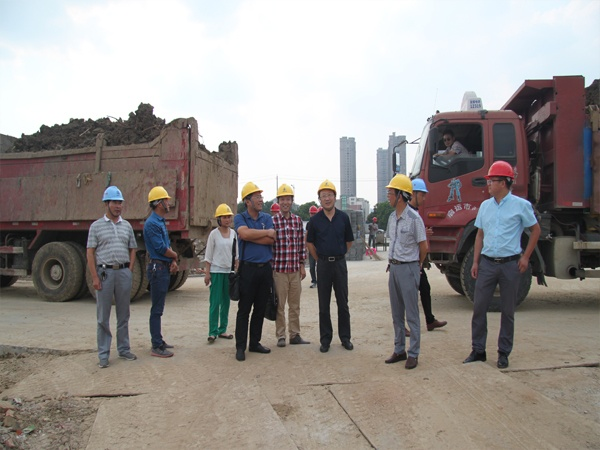blue: (101, 184, 126, 218), (408, 178, 429, 205)
none: (441, 129, 455, 146)
red: (485, 159, 514, 196), (308, 205, 318, 216), (271, 202, 279, 215), (372, 216, 377, 224)
yellow: (385, 173, 411, 206), (146, 184, 171, 213), (317, 178, 338, 210), (242, 182, 265, 210), (277, 183, 294, 213), (215, 203, 233, 227)
